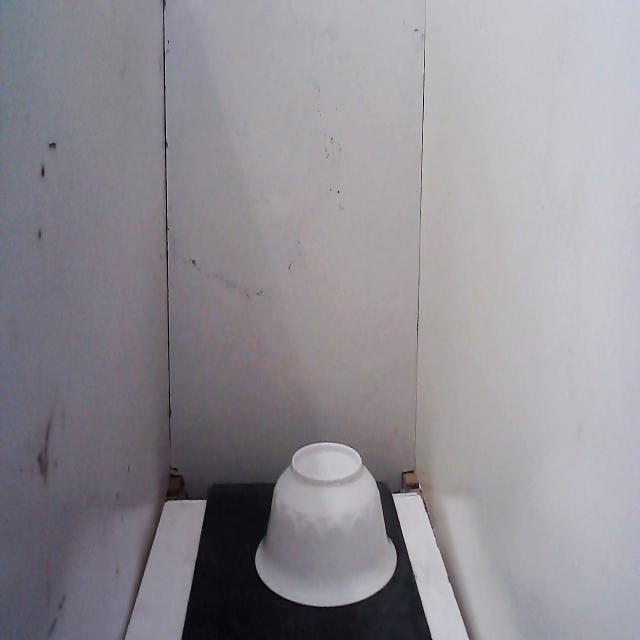plastico: (251, 432, 402, 617)
